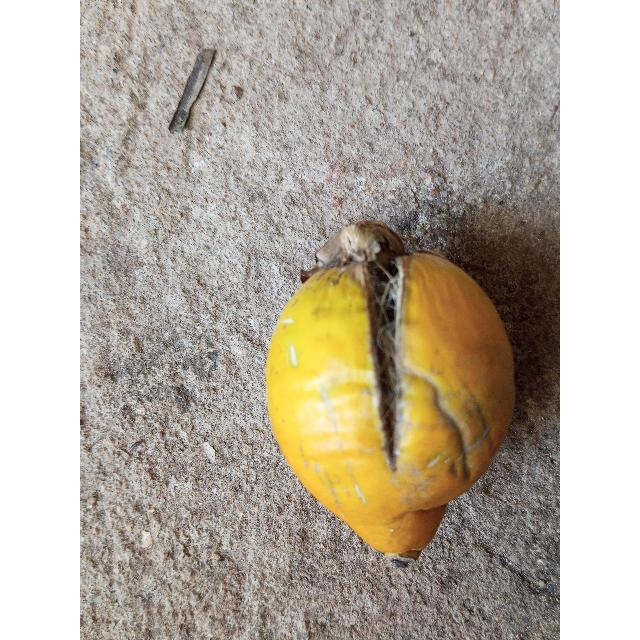damaged: (268, 223, 515, 560)
